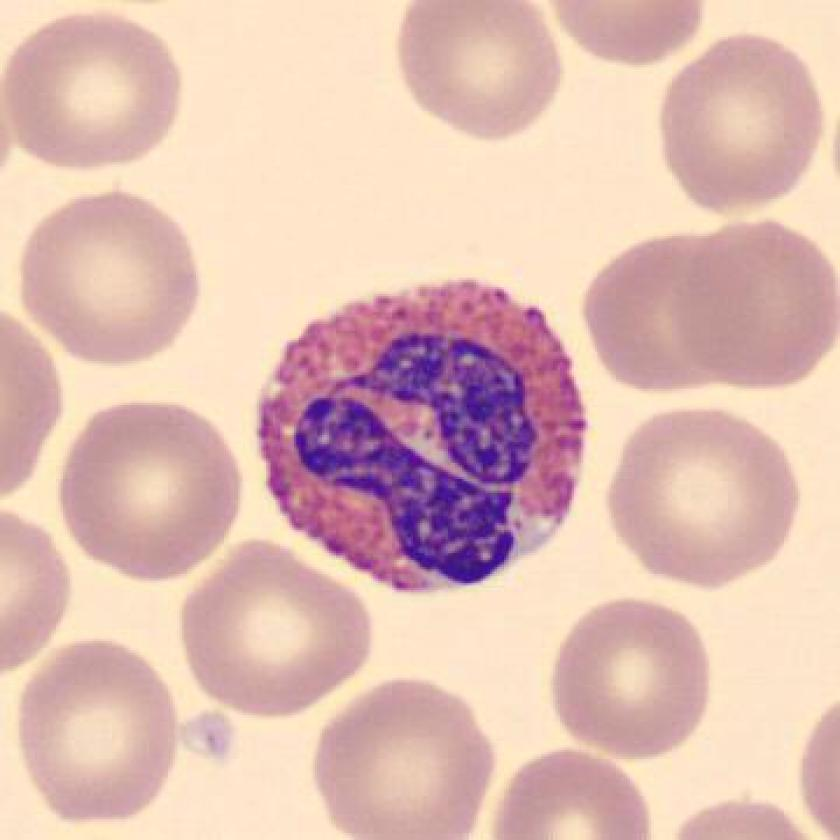eosinophil: (246, 272, 594, 607)
